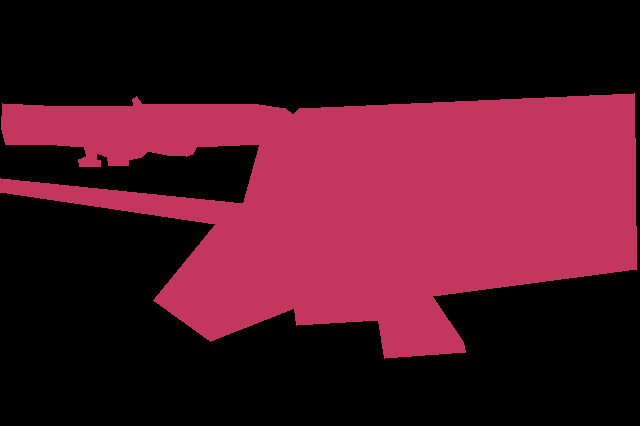Airplane: (0, 93, 636, 358), (1, 96, 295, 166)
